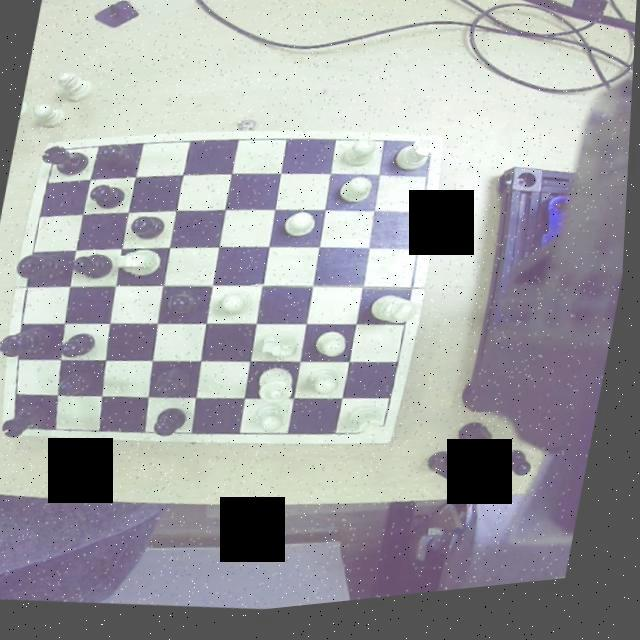chess-table-corners: (413, 143, 442, 170), (372, 427, 399, 452), (6, 417, 36, 439), (43, 144, 68, 167)
